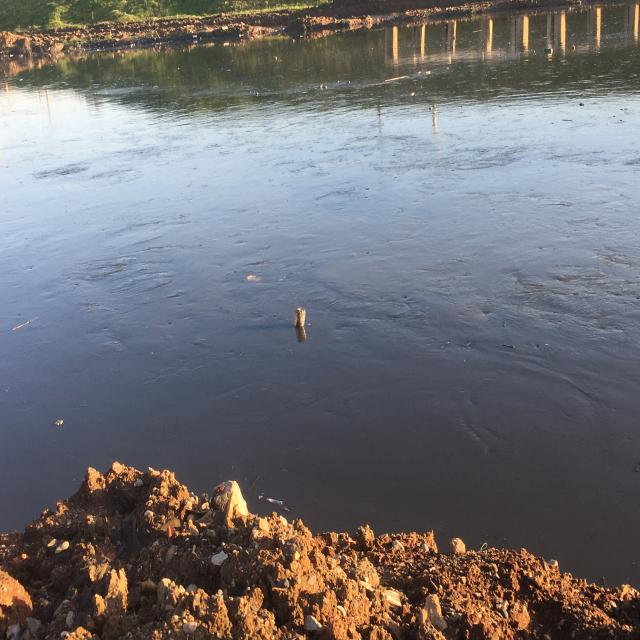Plastic bottle: (293, 303, 307, 331)
